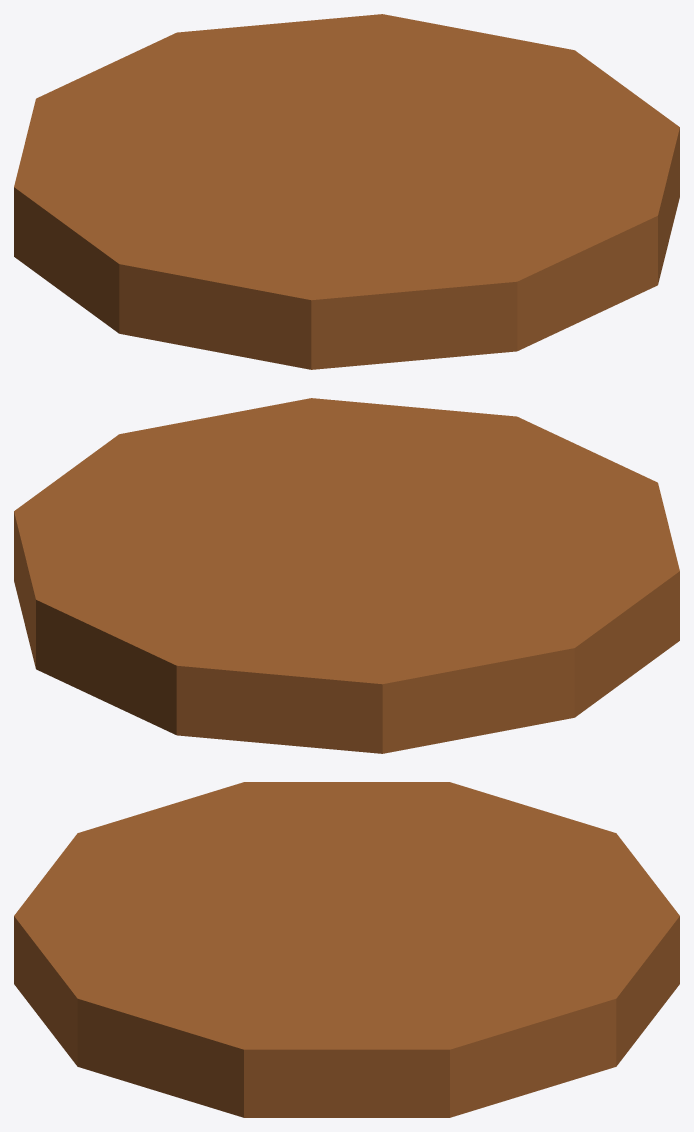
Rendered from n2_barrel_lev2.007.glb.
The picture shows the model from 3 angles, top to bottom: view 1: azimuth 30°, elevation 25°; view 2: azimuth 150°, elevation 25°; view 3: azimuth 270°, elevation 25°; orthographic projection. The views are drawn at different scales.
Visible parts, largest first — view 1: n2_barrel_lev2.007; view 2: n2_barrel_lev2.007; view 3: n2_barrel_lev2.007.
Boxes of the visible parts, x1,y1,x2,y2 form: n2_barrel_lev2.007: [14, 14, 679, 369]; n2_barrel_lev2.007: [14, 398, 679, 753]; n2_barrel_lev2.007: [14, 782, 679, 1117].
Size of the model in its own units: 0.8685 by 0.1031 by 0.9132.
